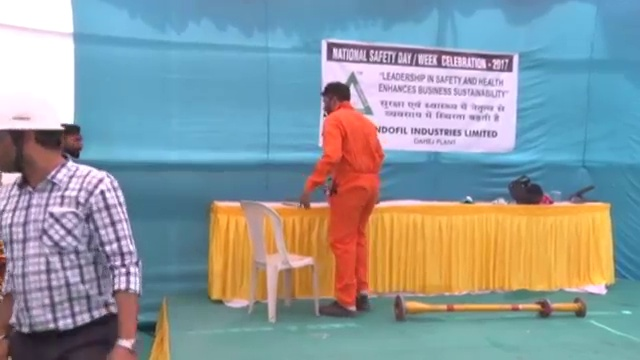helmet: (1, 88, 65, 136)
helmet_off: (320, 81, 351, 118), (59, 122, 84, 162)
helmet_on: (1, 87, 63, 177)
person: (1, 86, 156, 359), (303, 78, 386, 322)
